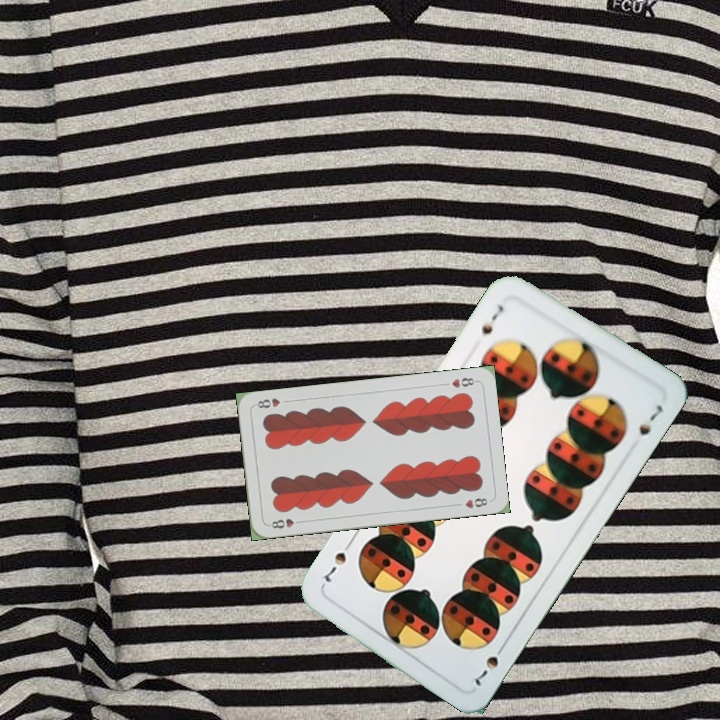H8: (265, 515, 305, 531), (448, 374, 479, 390)
S7: (470, 638, 510, 690), (477, 301, 507, 338)
